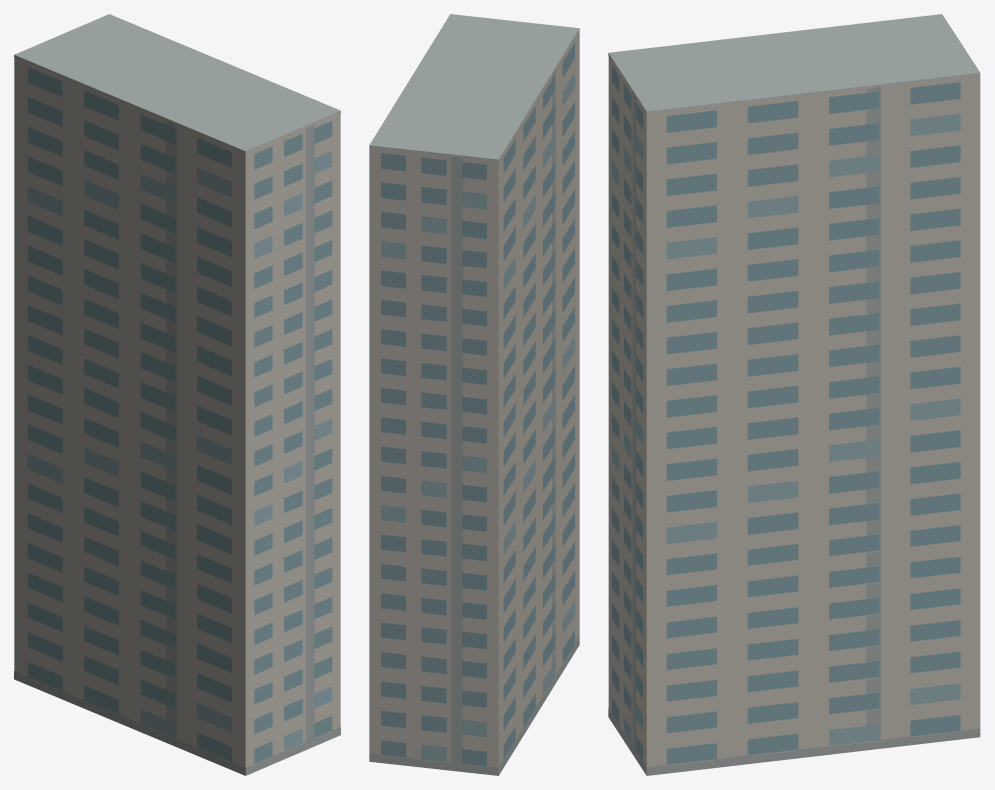
The model's file is residential-da6cd9a0-034c-4808-acfe-ce988787f4be.glb.
The picture shows the model from 3 angles, left to right: view 1: azimuth 30°, elevation 25°; view 2: azimuth 150°, elevation 25°; view 3: azimuth 270°, elevation 25°; orthographic projection. The views are drawn at different scales.
Parts seen in each view (by area): view 1: residential-da6cd9a0-034c-4808-acfe-ce988787f4be.tmp; view 2: residential-da6cd9a0-034c-4808-acfe-ce988787f4be.tmp; view 3: residential-da6cd9a0-034c-4808-acfe-ce988787f4be.tmp.
Boxes of the visible parts, x1,y1,x2,y2 form: residential-da6cd9a0-034c-4808-acfe-ce988787f4be.tmp: (14, 14, 340, 775); residential-da6cd9a0-034c-4808-acfe-ce988787f4be.tmp: (369, 14, 579, 775); residential-da6cd9a0-034c-4808-acfe-ce988787f4be.tmp: (608, 14, 980, 775).
Size of the model in its own units: 18.26 by 58 by 29.43.
